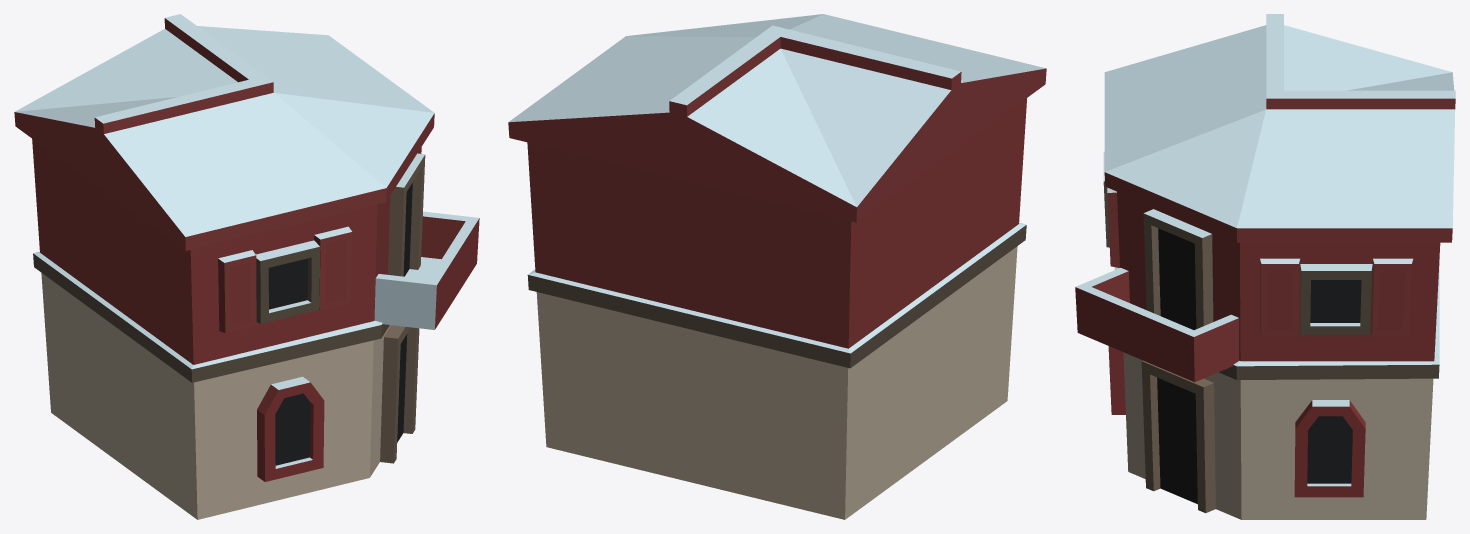
The model's file is SM_Bld_Pirates_House_03_Snow.fbx.
3 renders of one model, left to right at view 1: azimuth 30°, elevation 25°; view 2: azimuth 150°, elevation 25°; view 3: azimuth 270°, elevation 25°, orthographic. The views are drawn at different scales.
Parts seen in each view (by area): view 1: SM_Bld_Pirates_House_03_Snow; view 2: SM_Bld_Pirates_House_03_Snow; view 3: SM_Bld_Pirates_House_03_Snow.
Boxes of the visible parts, box(x1,y1,x2,y2) form: SM_Bld_Pirates_House_03_Snow: box(14, 14, 479, 519); SM_Bld_Pirates_House_03_Snow: box(508, 14, 1046, 519); SM_Bld_Pirates_House_03_Snow: box(1075, 14, 1455, 519).
Size of the model in its own units: 123 by 122 by 117.
Materials: 1 (1 with a texture image).
